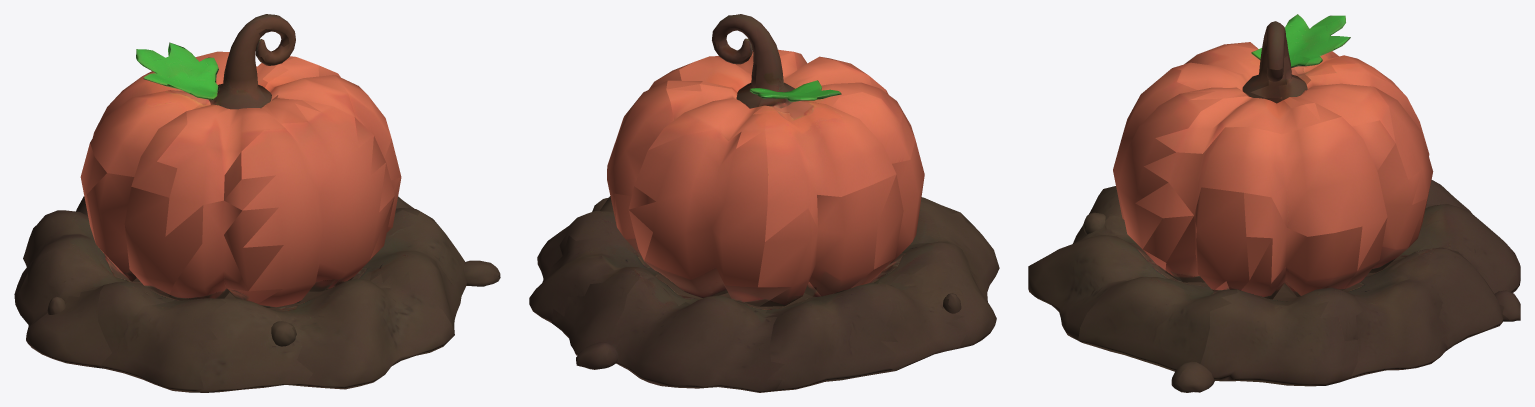
The model's file is pumpkin.glb.
The picture shows the model from 3 angles, left to right: view 1: azimuth 30°, elevation 25°; view 2: azimuth 150°, elevation 25°; view 3: azimuth 270°, elevation 25°; orthographic projection.
Visible parts, largest first — view 1: mesh_node; view 2: mesh_node; view 3: mesh_node.
Part boxes in pixels (<box>): mesh_node: <box>14,14,500,392</box>; mesh_node: <box>529,14,999,392</box>; mesh_node: <box>1028,14,1520,392</box>.
Bounding box in the file's own units: 1 × 0.6172 × 1.
Materials: 1 (1 with a texture image).
